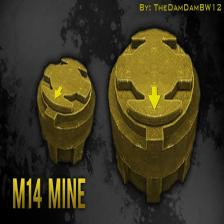M14: (110, 27, 200, 201), (37, 56, 97, 165)
